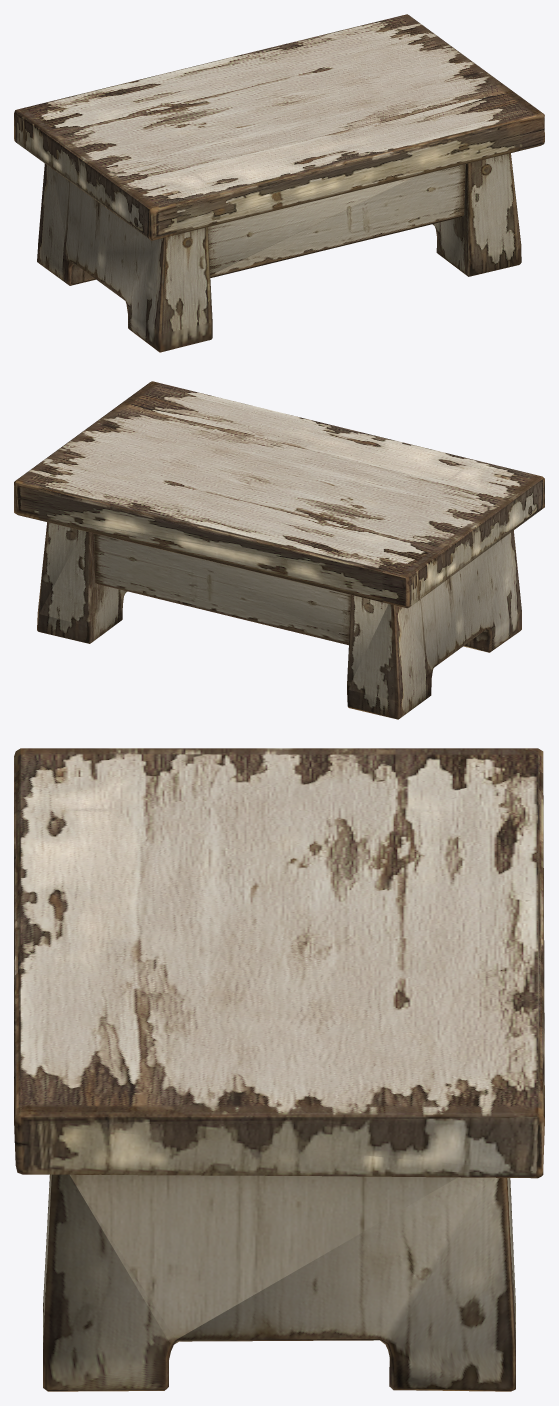
Rendered from low wooden stool.fbx.
3 views of the same model, one above another, from view 1: azimuth 30°, elevation 25°; view 2: azimuth 150°, elevation 25°; view 3: azimuth 270°, elevation 25° (orthographic). The views are drawn at different scales.
Visible parts, largest first — view 1: mesh_node; view 2: mesh_node; view 3: mesh_node.
Part boxes in pixels (x1,y1,x2,y2): mesh_node: [14, 14, 544, 352]; mesh_node: [14, 381, 544, 719]; mesh_node: [14, 748, 544, 1391].
Bounding box in the file's own units: 100 × 37.21 × 60.94.
1 material, 1 textured.
